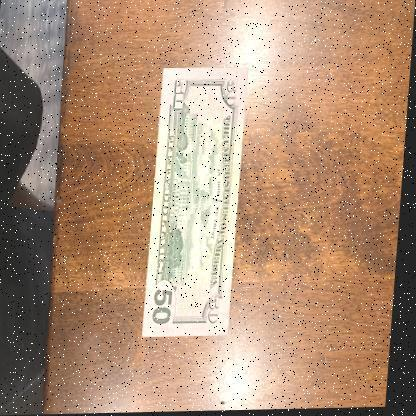fifty-back: (146, 66, 250, 340)
